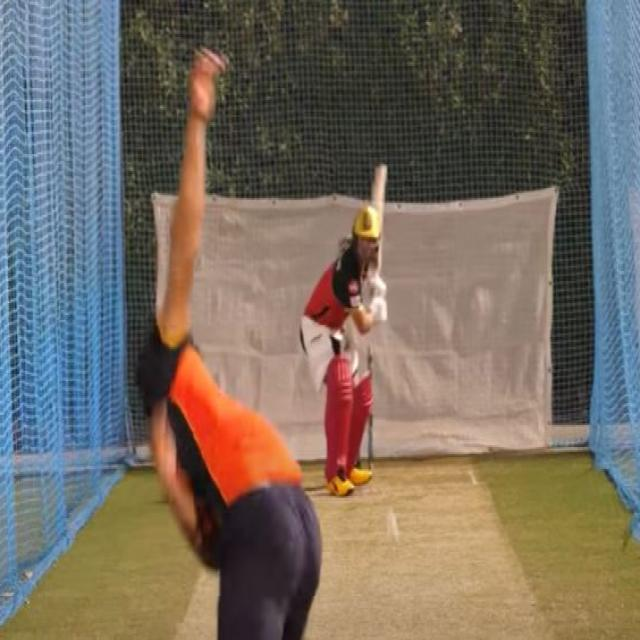ball: (379, 500, 405, 548)
